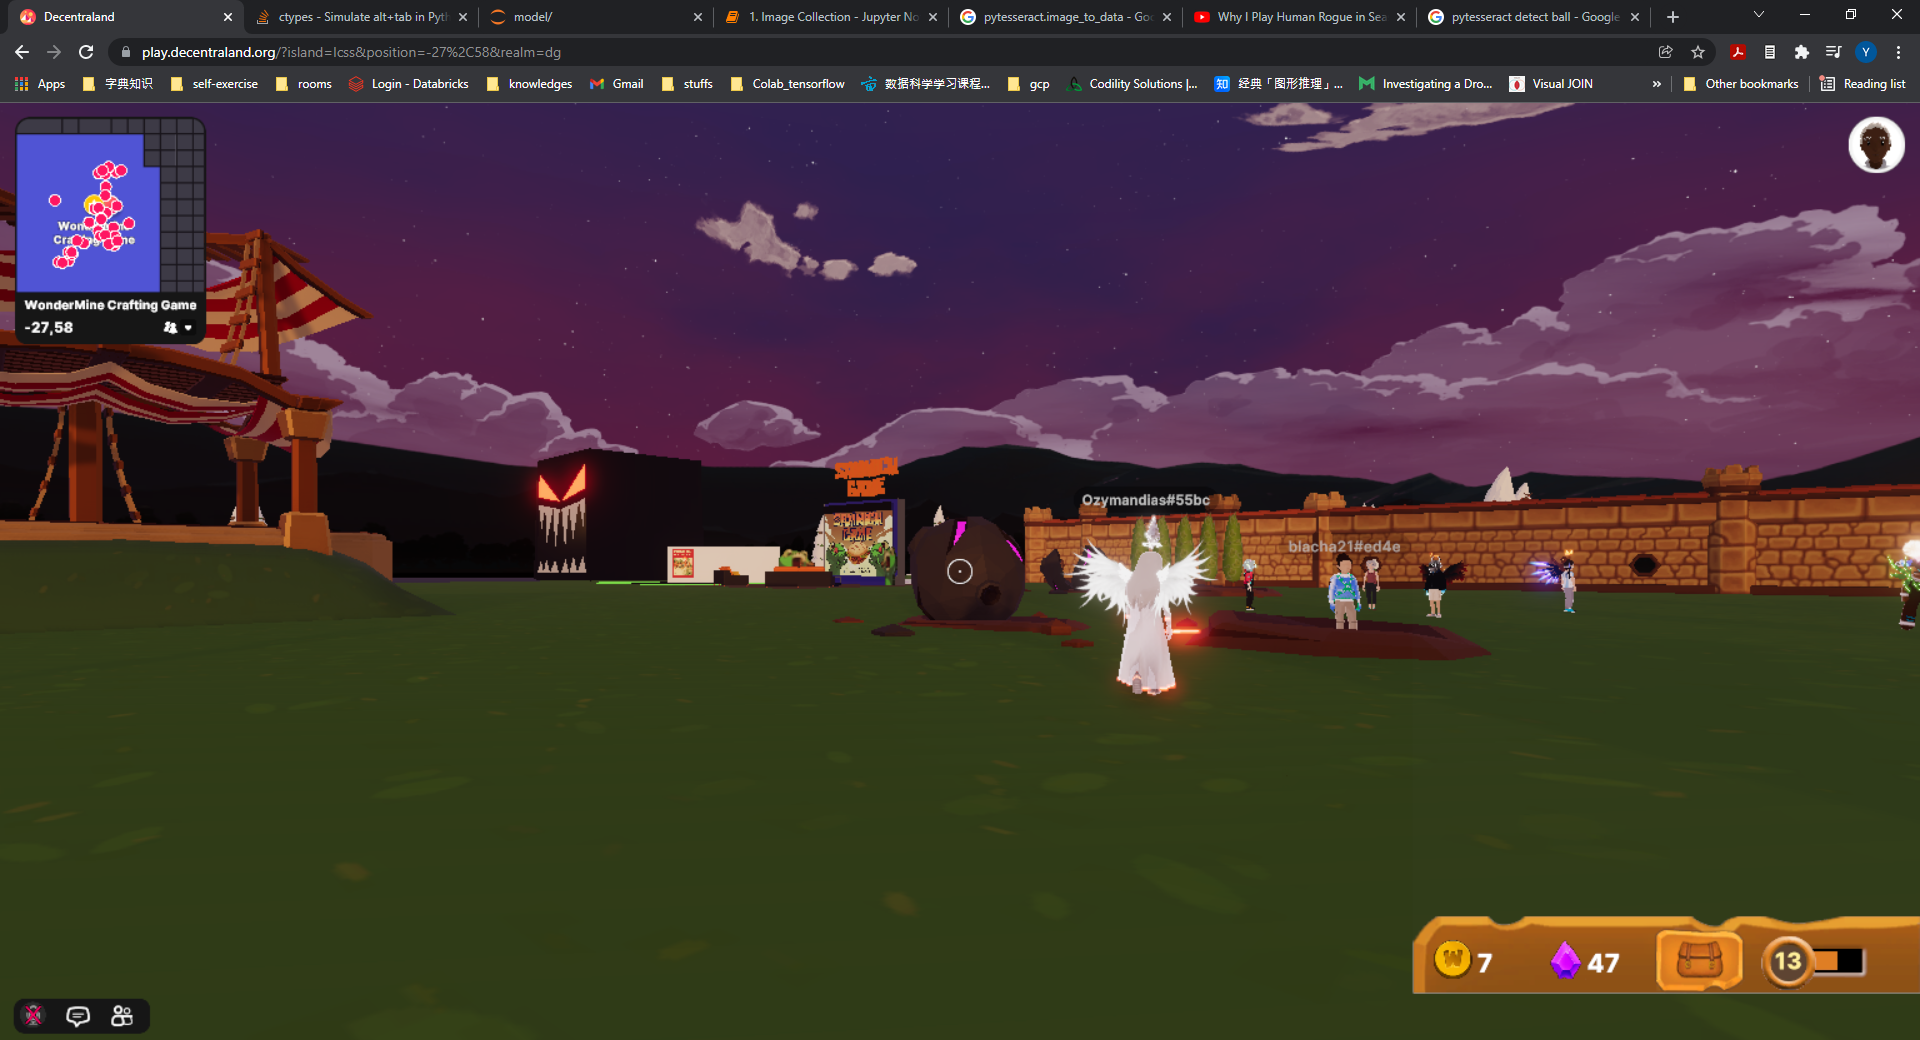black_ball: (888, 507, 1037, 639)
